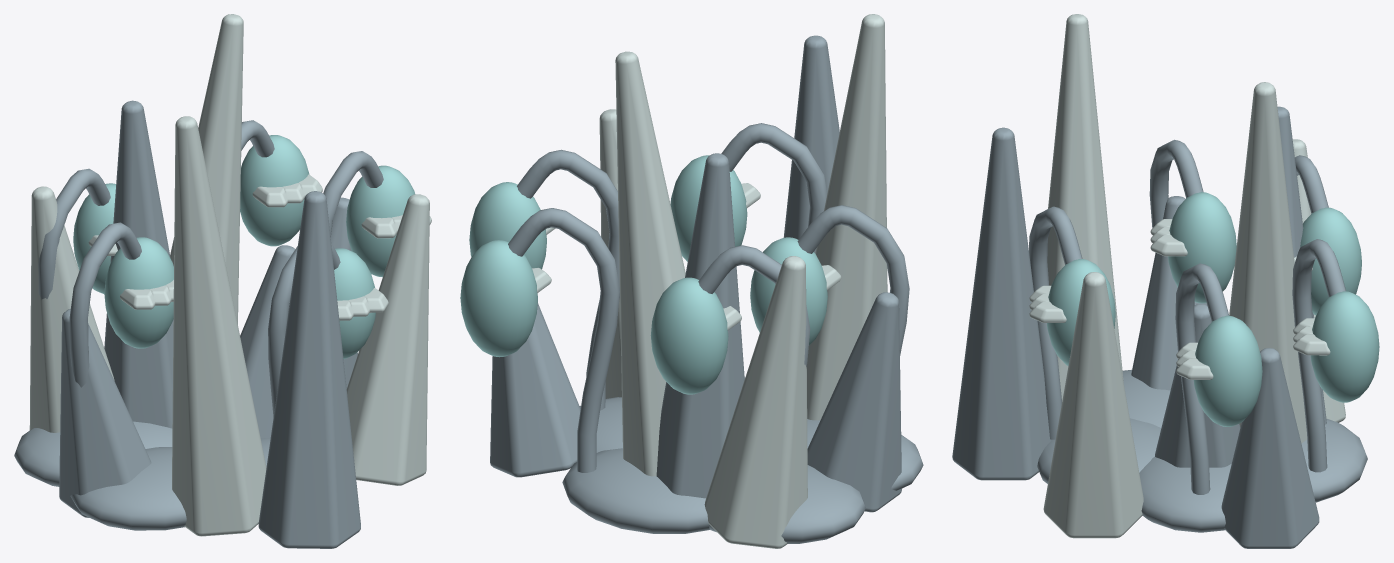
File: bio_crystal_fan_03_near.glb
3 views of the same model, side by side, from view 1: azimuth 30°, elevation 25°; view 2: azimuth 150°, elevation 25°; view 3: azimuth 270°, elevation 25° (orthographic). The views are drawn at different scales.
Parts seen in each view (by area): view 1: Reflecting mineral prism.007, Reflecting mineral prism.002, Reflecting mineral prism.005, Reflecting mineral prism.006, Reflecting mineral prism.004, Mineral substrate, Reflecting mineral prism.003, Reflecting mineral prism.001, Pendant spore capsule.004, Pendant spore capsule.003, Pendant spore capsule, Reflecting mineral prism (+12 smaller); view 2: Reflecting mineral prism.001, Reflecting mineral prism.003, Reflecting mineral prism.007, Mineral substrate, Reflecting mineral prism.004, Reflecting mineral prism.006, Reflecting mineral prism.008, Pendant spore capsule.001, Pendant spore capsule.003, Arched fruit stem.003, Reflecting mineral prism.002, Arched fruit stem.004 (+7 smaller); view 3: Reflecting mineral prism.002, Reflecting mineral prism.005, Reflecting mineral prism.003, Reflecting mineral prism.008, Reflecting mineral prism.007, Mineral substrate, Pendant spore capsule.003, Pendant spore capsule, Reflecting mineral prism.004, Pendant spore capsule.004, Arched fruit stem.003, Arched fruit stem (+12 smaller).
Part boxes in pixels (left/top/right/bottom): Reflecting mineral prism.007: left=172, top=116, right=266, bottom=536; Reflecting mineral prism.002: left=258, top=191, right=360, bottom=548; Reflecting mineral prism.005: left=346, top=194, right=429, bottom=485; Reflecting mineral prism.006: left=104, top=100, right=173, bottom=428; Reflecting mineral prism.004: left=59, top=309, right=151, bottom=517; Mineral substrate: left=14, top=421, right=270, bottom=530; Reflecting mineral prism.003: left=170, top=14, right=243, bottom=324; Reflecting mineral prism.001: left=29, top=186, right=114, bottom=432; Pendant spore capsule.004: left=104, top=237, right=173, bottom=348; Pendant spore capsule.003: left=240, top=135, right=309, bottom=246; Pendant spore capsule: left=346, top=165, right=414, bottom=277; Reflecting mineral prism: left=240, top=245, right=295, bottom=438; Reflecting mineral prism.001: left=704, top=256, right=807, bottom=548; Reflecting mineral prism.003: left=615, top=51, right=685, bottom=476; Reflecting mineral prism.007: left=806, top=14, right=887, bottom=420; Mineral substrate: left=562, top=377, right=923, bottom=543; Reflecting mineral prism.004: left=807, top=292, right=901, bottom=512; Reflecting mineral prism.006: left=656, top=153, right=744, bottom=498; Reflecting mineral prism.008: left=490, top=303, right=580, bottom=477; Pendant spore capsule.001: left=650, top=277, right=728, bottom=394; Pendant spore capsule.003: left=460, top=240, right=537, bottom=357; Arched fruit stem.003: left=508, top=208, right=619, bottom=472; Reflecting mineral prism.002: left=783, top=35, right=839, bottom=239; Arched fruit stem.004: left=797, top=205, right=909, bottom=355; Reflecting mineral prism.002: left=952, top=127, right=1051, bottom=480; Reflecting mineral prism.005: left=1043, top=272, right=1143, bottom=538; Reflecting mineral prism.003: left=1229, top=82, right=1307, bottom=443; Reflecting mineral prism.008: left=1221, top=348, right=1319, bottom=548; Reflecting mineral prism.007: left=1047, top=14, right=1123, bottom=401; Mineral substrate: left=1037, top=369, right=1367, bottom=532; Pendant spore capsule.003: left=1310, top=291, right=1379, bottom=402; Pendant spore capsule: left=1193, top=315, right=1262, bottom=426; Reflecting mineral prism.004: left=1131, top=196, right=1207, bottom=390; Pendant spore capsule.004: left=1168, top=192, right=1236, bottom=303; Arched fruit stem.003: left=1292, top=239, right=1345, bottom=472; Arched fruit stem: left=1175, top=263, right=1229, bottom=494.
Size of the model in its own units: 1.63 by 1.73 by 1.59.
